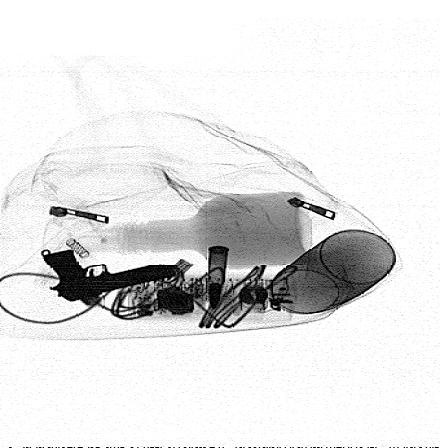Bullet: (207, 246, 228, 310)
Gun: (44, 249, 177, 302)
